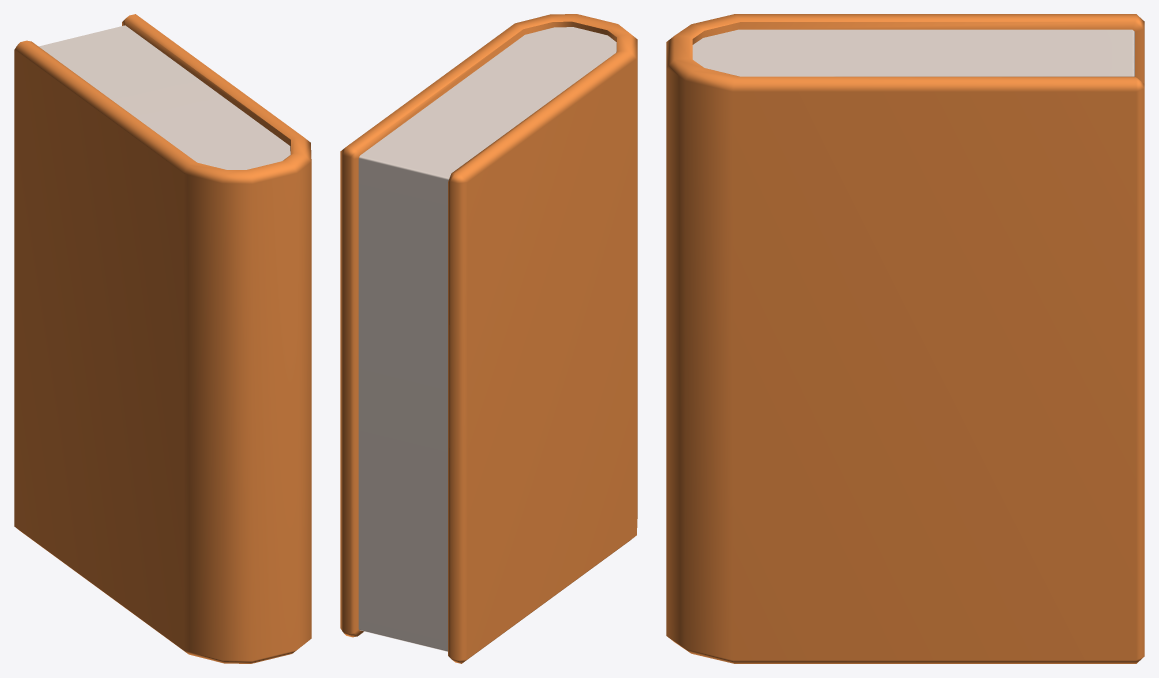
File: Book_5.glb
3 views of the same model, side by side, from view 1: azimuth 30°, elevation 25°; view 2: azimuth 150°, elevation 25°; view 3: azimuth 270°, elevation 25° (orthographic). The views are drawn at different scales.
Parts seen in each view (by area): view 1: Book_5; view 2: Book_5; view 3: Book_5.
Part boxes in pixels (<box>): Book_5: <box>14,14,311,663</box>; Book_5: <box>340,14,637,663</box>; Book_5: <box>666,14,1144,663</box>.
Size of the model in its own units: 0.0876 by 0.3221 by 0.2393.
1 material, 1 textured.
